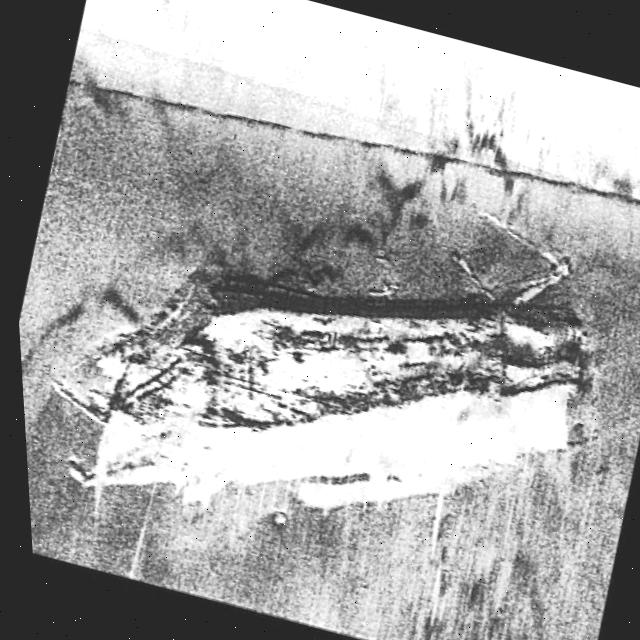shipwreck: (72, 192, 611, 580)
